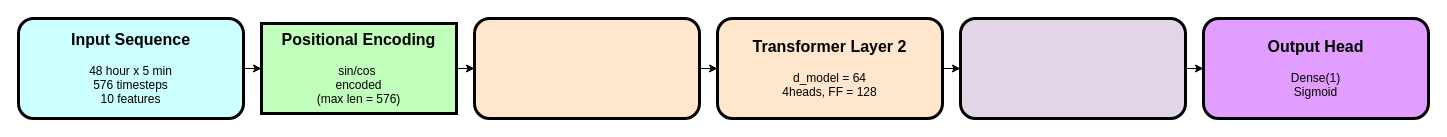
This 1447x137 diagram has some shape labels left out. Each missing label, with the centre of its shape:
GlobalAvgPool: point (1072, 68)
Transformer Layer 1 d_model = 64 4 heads, FF=128: point (586, 68)
